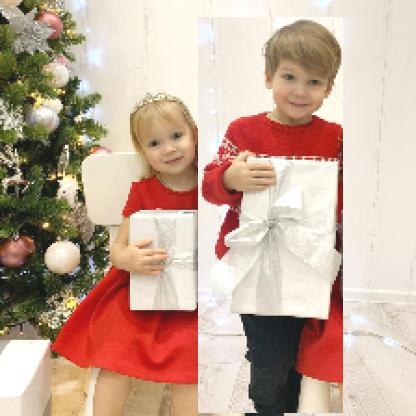child: (49, 96, 250, 416), (199, 18, 345, 415)
